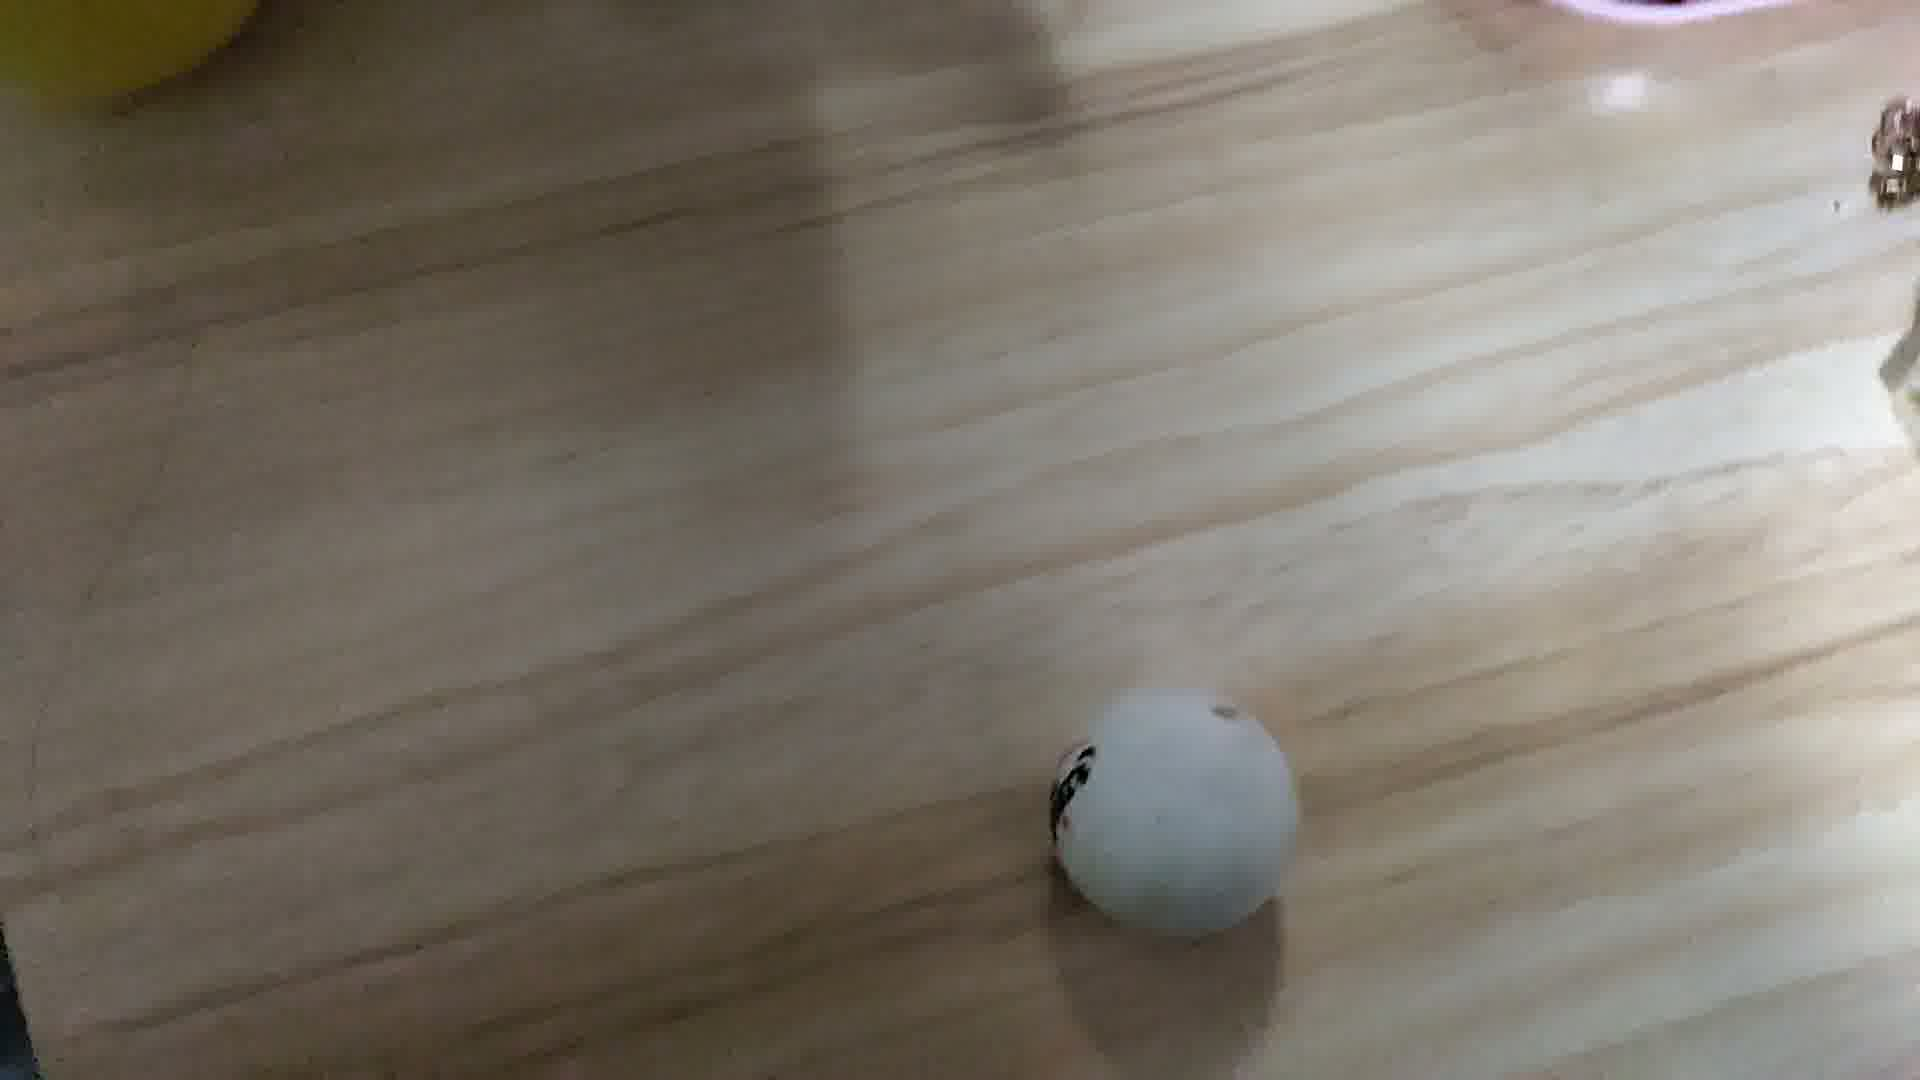Ball: (1051, 682, 1304, 942)
